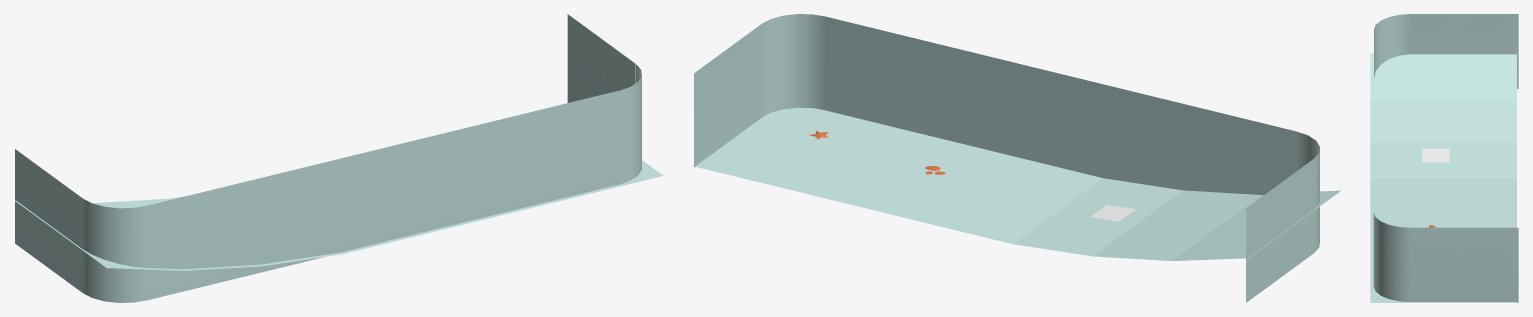
File: Lightmap_2_Baker.fbx
3 renders of one model, left to right at view 1: azimuth 30°, elevation 25°; view 2: azimuth 150°, elevation 25°; view 3: azimuth 270°, elevation 25°, orthographic. The views are drawn at different scales.
Visible parts, largest first — view 1: -mesh; view 2: -mesh; view 3: -mesh.
Part boxes in pixels (left/top/right/bottom): -mesh: left=14, top=14, right=663, bottom=302; -mesh: left=693, top=14, right=1340, bottom=302; -mesh: left=1370, top=14, right=1518, bottom=302.
Size of the model in its own units: 22.68 by 3.69 by 6.61.
